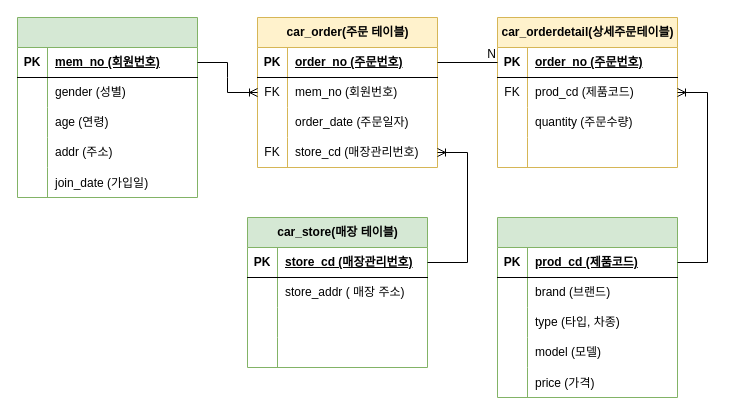
The diagram is 733 pixels wide and 415 high, and some of its shapes have lost their labels. The shapes that lost their labels are listed below. From the top down, each one's box as (x1, y1, x2, y2) in pixels, then its label:
(16, 16, 198, 198): car_member(회원 테이블)
(496, 216, 678, 398): car_product(제품 테이블)
